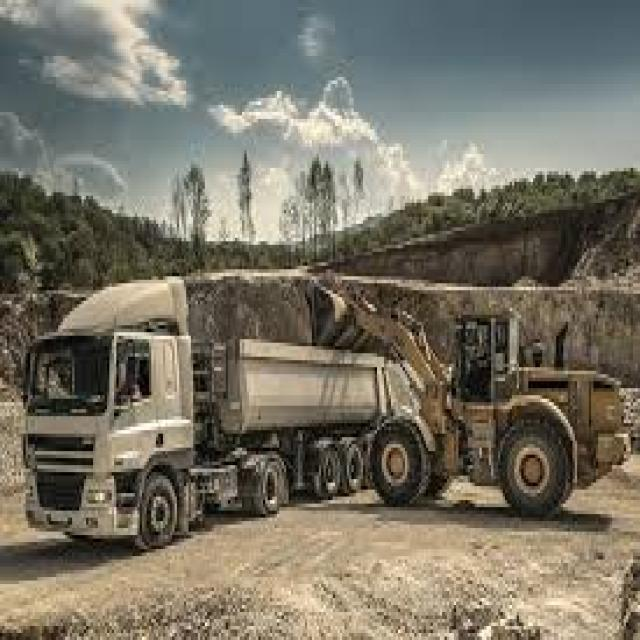Truck: (23, 275, 390, 561)
